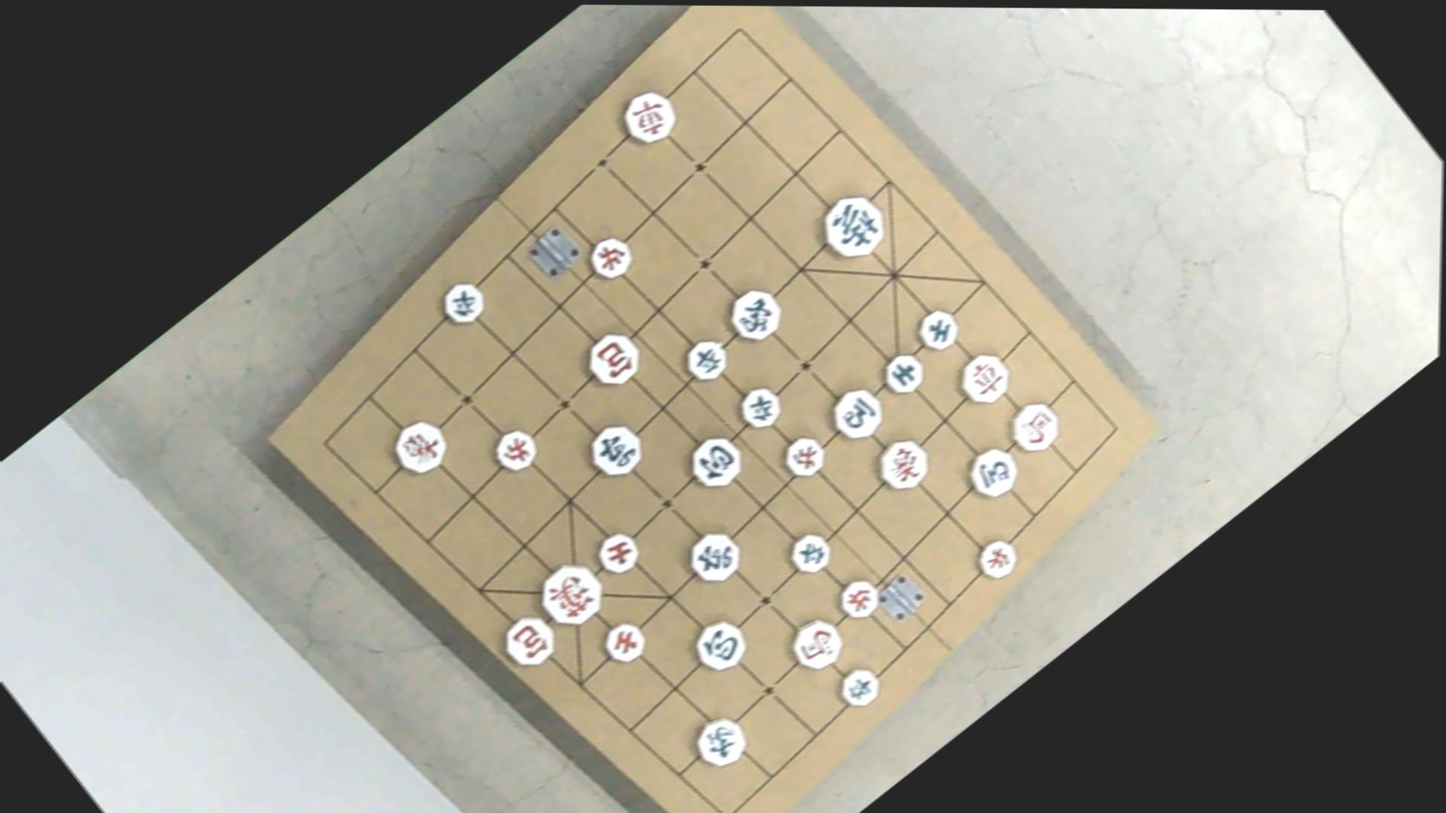cha_green: (580, 413, 650, 482), (677, 522, 747, 590)
cha_red: (614, 83, 685, 151), (952, 346, 1017, 410)
jol_green: (733, 380, 789, 435), (678, 329, 734, 383), (782, 527, 836, 580), (830, 661, 884, 714), (436, 276, 490, 329)
jol_red: (581, 230, 638, 286), (489, 422, 545, 476), (774, 430, 830, 484), (830, 572, 883, 624), (971, 532, 1024, 583)
ma_green: (820, 379, 891, 448), (959, 440, 1026, 504)
ma_red: (781, 610, 851, 678), (999, 395, 1066, 460)
po_green: (683, 613, 752, 680), (680, 428, 749, 495)
po_red: (576, 325, 647, 394), (490, 606, 560, 674)
sa_green: (910, 301, 963, 353), (874, 348, 928, 399)
sa_red: (594, 616, 651, 671), (588, 524, 645, 578)
sang_green: (719, 280, 789, 348), (688, 709, 756, 775)
sang_red: (384, 412, 455, 481), (865, 431, 934, 498)
wang_green: (811, 184, 896, 267)
wang_red: (529, 553, 612, 635)
